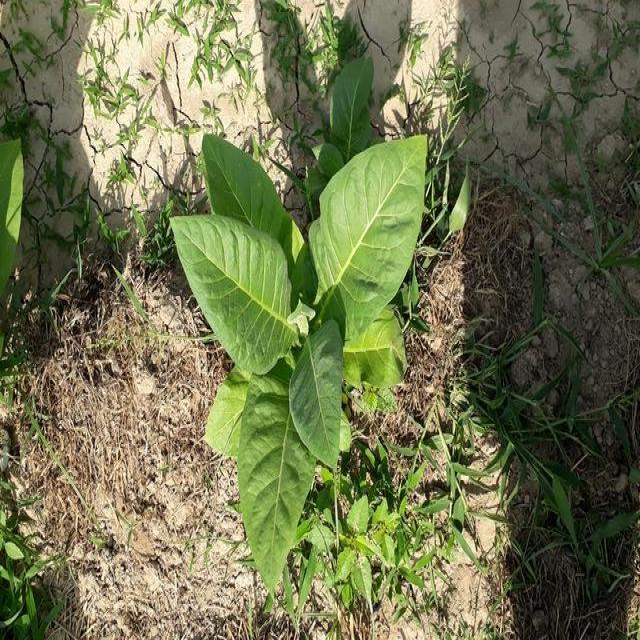crop: (181, 111, 428, 598)
